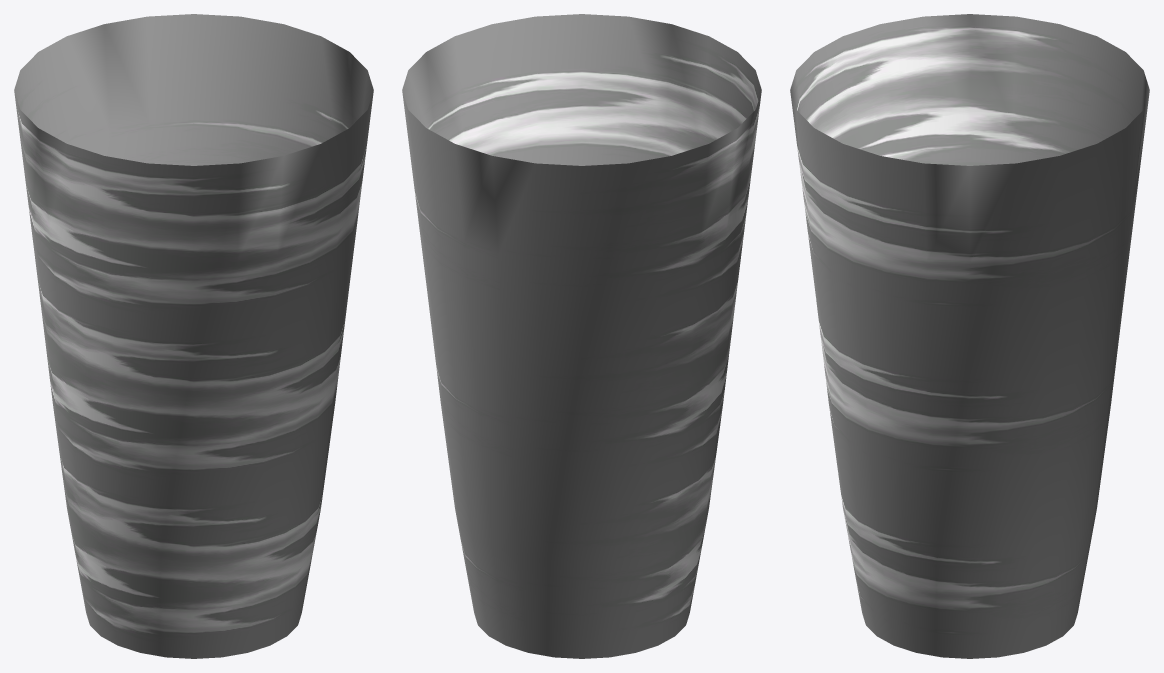
The model's file is yuanzhuxian.FBX.
3 views of the same model, side by side, from view 1: azimuth 30°, elevation 25°; view 2: azimuth 150°, elevation 25°; view 3: azimuth 270°, elevation 25° (orthographic).
Visible parts, largest first — view 1: Cone001; view 2: Cone001; view 3: Cone001.
Boxes of the visible parts, x1,y1,x2,y2 form: Cone001: (14, 14, 373, 658); Cone001: (402, 14, 761, 658); Cone001: (790, 14, 1149, 658).
Bounding box in the file's own units: 0.4491 × 0.721 × 0.4491.
Materials: 1 (1 with a texture image).
